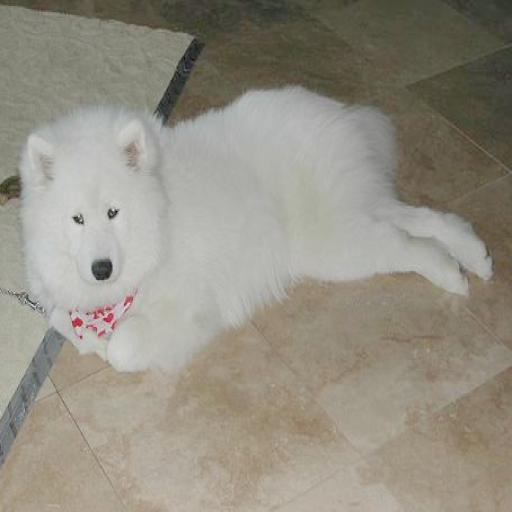dog_face: (24, 127, 161, 298)
